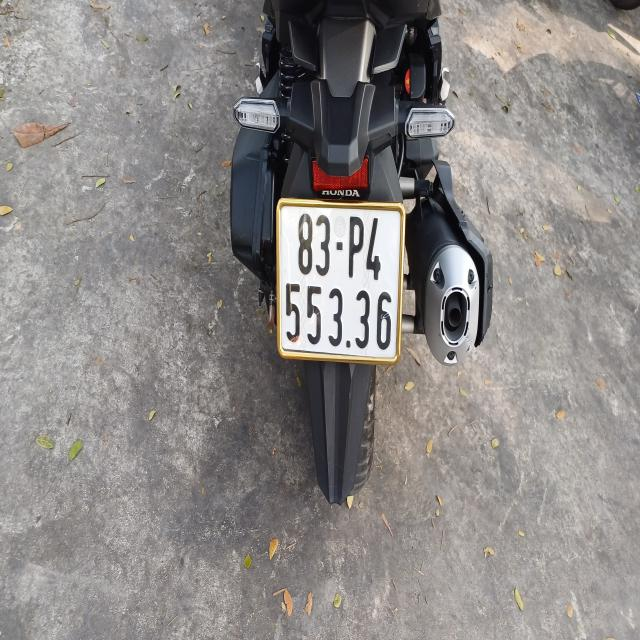3: (354, 285, 373, 352), (314, 214, 331, 276), (328, 286, 342, 348)
4: (367, 217, 382, 279)
5: (305, 282, 322, 344), (285, 281, 301, 343)
6: (376, 287, 394, 353)
8: (297, 211, 313, 276)
P: (346, 215, 365, 279)
